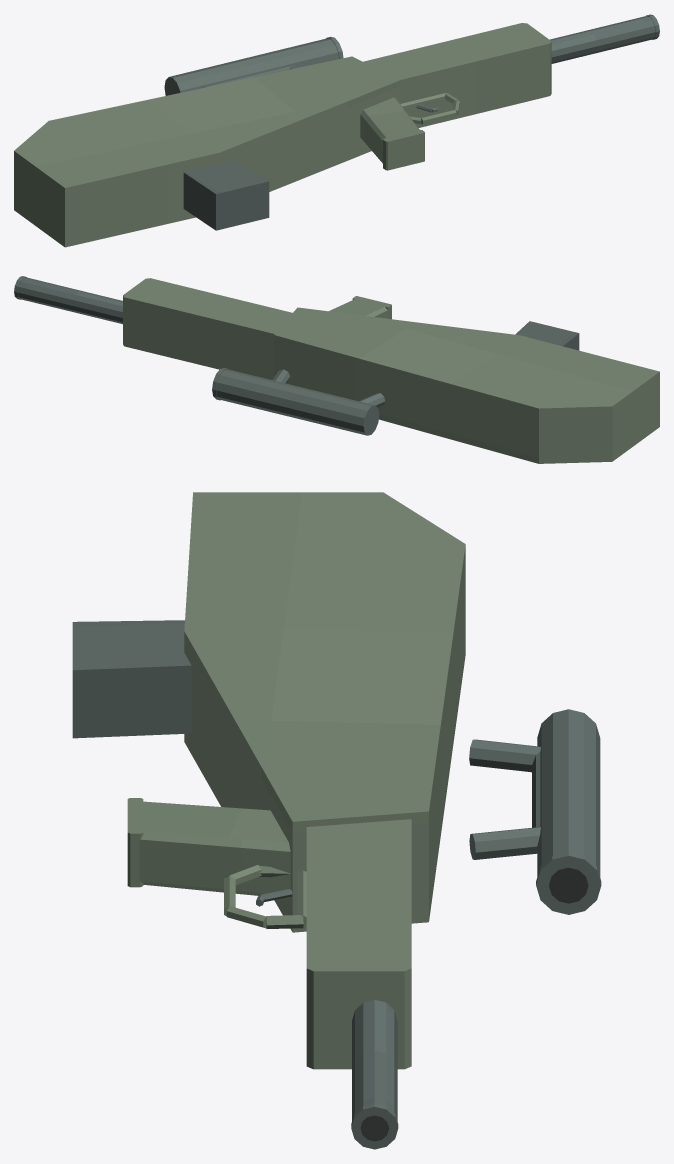
Rendered from weapon-l85a1.glb.
The picture shows the model from 3 angles, top to bottom: view 1: azimuth 30°, elevation 25°; view 2: azimuth 150°, elevation 25°; view 3: azimuth 270°, elevation 25°; orthographic projection. The views are drawn at different scales.
Visible parts, largest first — view 1: weapon-l85a1/continuous-bullpup-body, weapon-l85a1/independent-forehandguard, weapon-l85a1/distinct-detachable-magazine, weapon-l85a1/top-fixed-optical-shape, weapon-l85a1/round-barrel, weapon-l85a1/distinct-eight-sided-pistol-grip, weapon-l85a1/distinct-eight-sided-pistol-grip-heel; view 2: weapon-l85a1/continuous-bullpup-body, weapon-l85a1/independent-forehandguard, weapon-l85a1/top-fixed-optical-shape, weapon-l85a1/round-barrel, weapon-l85a1/distinct-detachable-magazine, weapon-l85a1/distinct-eight-sided-pistol-grip; view 3: weapon-l85a1/continuous-bullpup-body, weapon-l85a1/independent-forehandguard, weapon-l85a1/distinct-detachable-magazine, weapon-l85a1/distinct-eight-sided-pistol-grip, weapon-l85a1/top-fixed-optical-shape, weapon-l85a1/round-barrel, weapon-l85a1/top-fixed-optical-shape-end-rim, weapon-l85a1/open-carry-handle-3, weapon-l85a1/open-carry-handle-1, weapon-l85a1/round-barrel-end-rim, weapon-l85a1/top-fixed-optical-shape-dark-end, weapon-l85a1/distinct-eight-sided-pistol-grip-heel.
Boxes of the visible parts, x1,y1,x2,y2 form: weapon-l85a1/continuous-bullpup-body: (14,56,399,247); weapon-l85a1/independent-forehandguard: (363,23,551,127); weapon-l85a1/distinct-detachable-magazine: (183,159,269,230); weapon-l85a1/top-fixed-optical-shape: (164,38,338,95); weapon-l85a1/round-barrel: (550,16,655,63); weapon-l85a1/distinct-eight-sided-pistol-grip: (360,97,419,163); weapon-l85a1/distinct-eight-sided-pistol-grip-heel: (383,130,424,170); weapon-l85a1/continuous-bullpup-body: (274,307,659,463); weapon-l85a1/independent-forehandguard: (123,278,292,379); weapon-l85a1/top-fixed-optical-shape: (216,369,379,435); weapon-l85a1/round-barrel: (18,277,122,324); weapon-l85a1/distinct-detachable-magazine: (515,321,579,350); weapon-l85a1/distinct-eight-sided-pistol-grip: (329,298,387,318); weapon-l85a1/continuous-bullpup-body: (184,492,465,932); weapon-l85a1/independent-forehandguard: (306,819,411,1069); weapon-l85a1/distinct-detachable-magazine: (72,620,191,738); weapon-l85a1/distinct-eight-sided-pistol-grip: (135,801,290,898); weapon-l85a1/top-fixed-optical-shape: (537,709,600,876); weapon-l85a1/round-barrel: (352,1000,397,1120); weapon-l85a1/top-fixed-optical-shape-end-rim: (536,852,601,914); weapon-l85a1/open-carry-handle-3: (469,827,540,859); weapon-l85a1/open-carry-handle-1: (469,739,540,772); weapon-l85a1/round-barrel-end-rim: (351,1103,398,1149); weapon-l85a1/top-fixed-optical-shape-dark-end: (549,867,588,903); weapon-l85a1/distinct-eight-sided-pistol-grip-heel: (127,798,143,887).
Size of the model in its own units: 0.7865 by 0.07 by 0.3027.
Materials: 3 (3 with a texture image).
